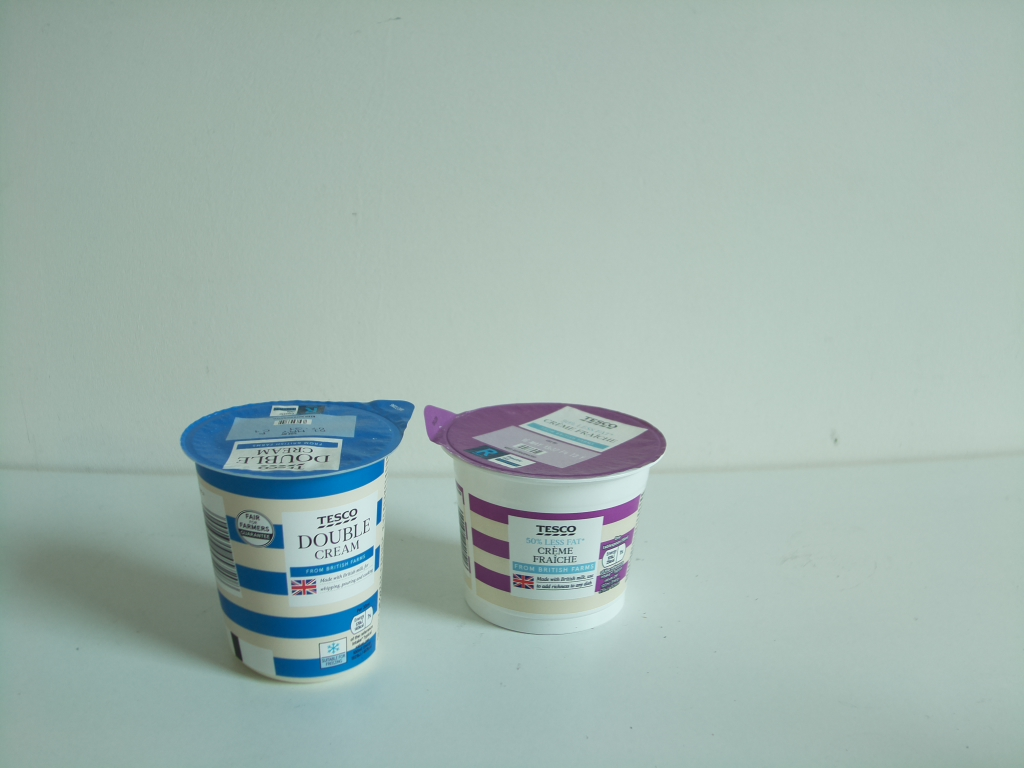cream: (180, 398, 419, 689), (424, 405, 668, 638)
